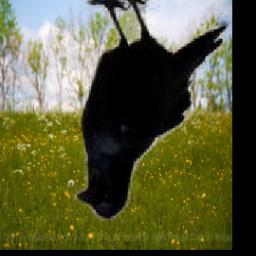Crow: (72, 0, 232, 222)
